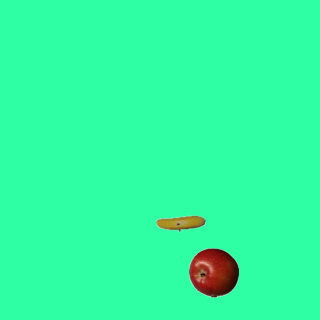Apple Braeburn: (188, 247, 238, 297)
Banana: (155, 198, 205, 248)
